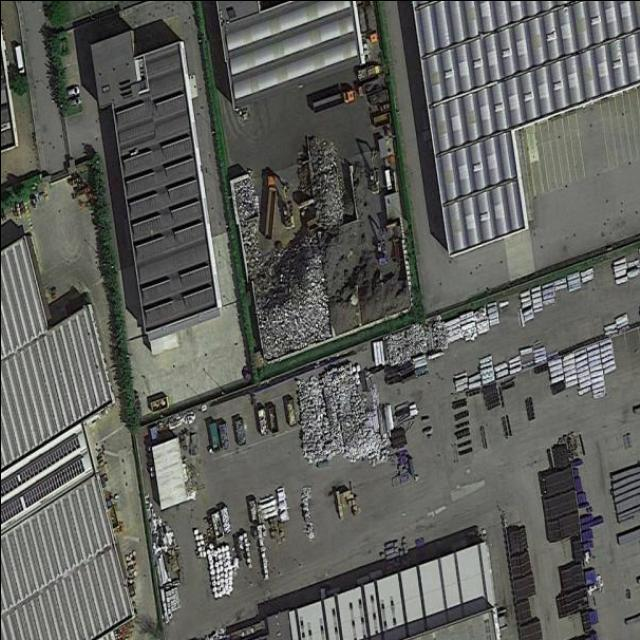dump_site: (245, 229, 332, 362), (293, 357, 391, 468), (308, 132, 344, 232), (383, 316, 448, 367), (233, 177, 262, 257), (298, 485, 316, 544), (211, 508, 224, 542), (218, 506, 230, 536), (285, 397, 297, 427), (257, 407, 268, 438), (234, 418, 246, 446), (218, 423, 229, 450)
